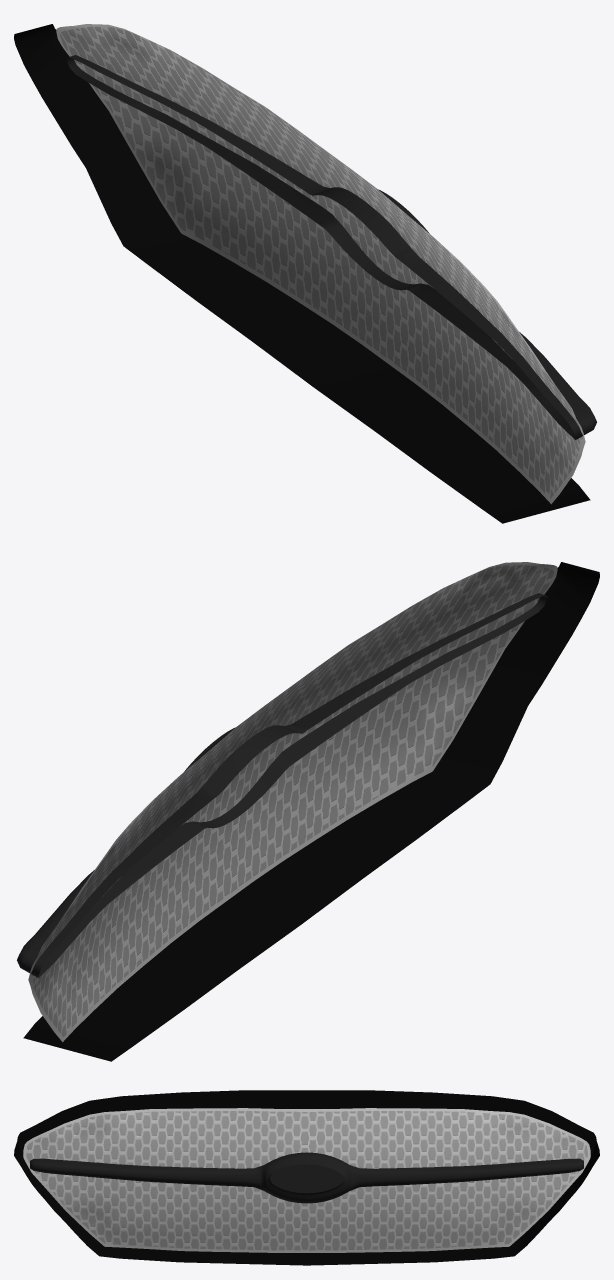
3 views of the same model, one above another, from view 1: azimuth 30°, elevation 25°; view 2: azimuth 150°, elevation 25°; view 3: azimuth 270°, elevation 25° (orthographic). The views are drawn at different scales.
Visible parts, largest first — view 1: P353_20_041B_C_2_D_P353_20_041B_C, P353_20_041B_C_P353_20_041B_C_3_D, P353_20_041B_C_P353_20_041B_C_1_D; view 2: P353_20_041B_C_2_D_P353_20_041B_C, P353_20_041B_C_P353_20_041B_C_3_D, P353_20_041B_C_P353_20_041B_C_1_D; view 3: P353_20_041B_C_2_D_P353_20_041B_C, P353_20_041B_C_P353_20_041B_C_3_D, P353_20_041B_C_P353_20_041B_C_1_D.
Boxes of the visible parts, x1=… form: P353_20_041B_C_2_D_P353_20_041B_C: x1=56, y1=24, x2=585, y2=504; P353_20_041B_C_P353_20_041B_C_3_D: x1=14, y1=24, x2=590, y2=523; P353_20_041B_C_P353_20_041B_C_1_D: x1=65, y1=55, x2=596, y2=439; P353_20_041B_C_2_D_P353_20_041B_C: x1=28, y1=562, x2=557, y2=1042; P353_20_041B_C_P353_20_041B_C_3_D: x1=23, y1=562, x2=599, y2=1061; P353_20_041B_C_P353_20_041B_C_1_D: x1=17, y1=593, x2=548, y2=977; P353_20_041B_C_2_D_P353_20_041B_C: x1=23, y1=1108, x2=590, y2=1252; P353_20_041B_C_P353_20_041B_C_3_D: x1=14, y1=1090, x2=599, y2=1265; P353_20_041B_C_P353_20_041B_C_1_D: x1=30, y1=1152, x2=583, y2=1203.
Bounding box in the file's own units: 14.55 × 19.61 × 78.43.
